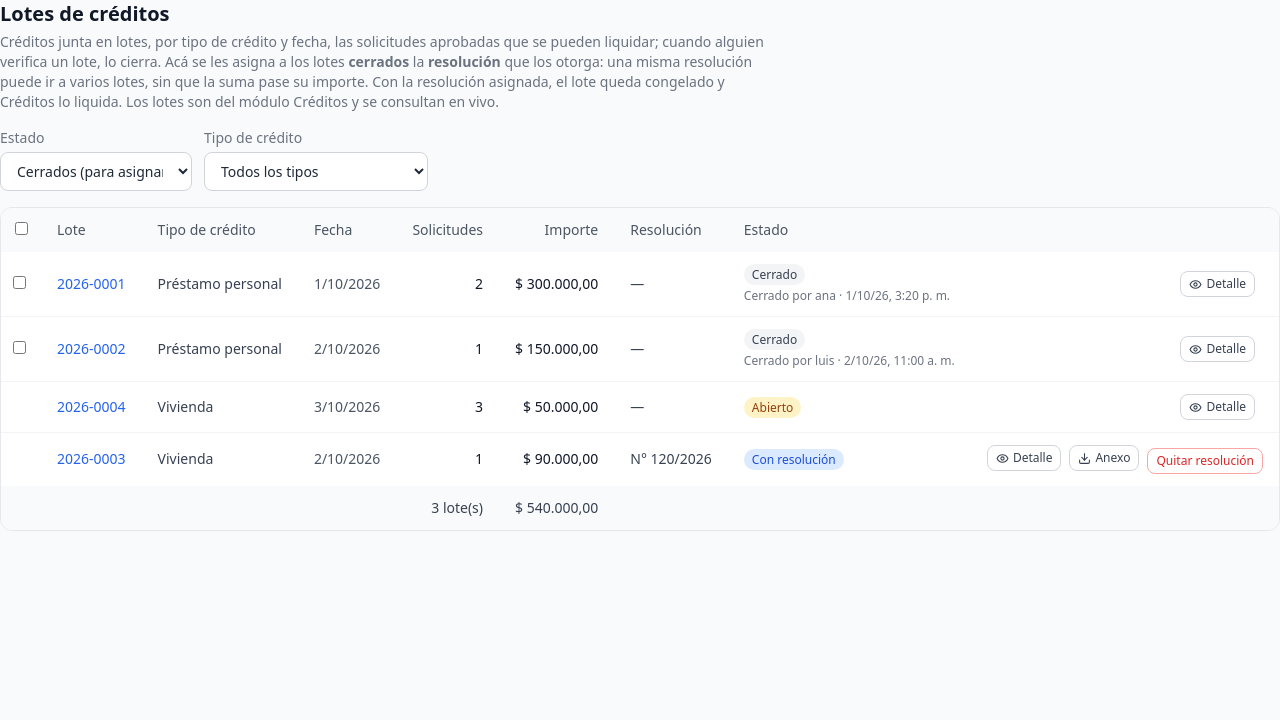
Lotes de créditos (Despacho) › avisa si Créditos no devuelve el lote
This screenshot has width=1280, height=720.
Click the button with aria-label "Ver detalle de 2026-0001" at (1218, 284), box [1180,271,1255,297]
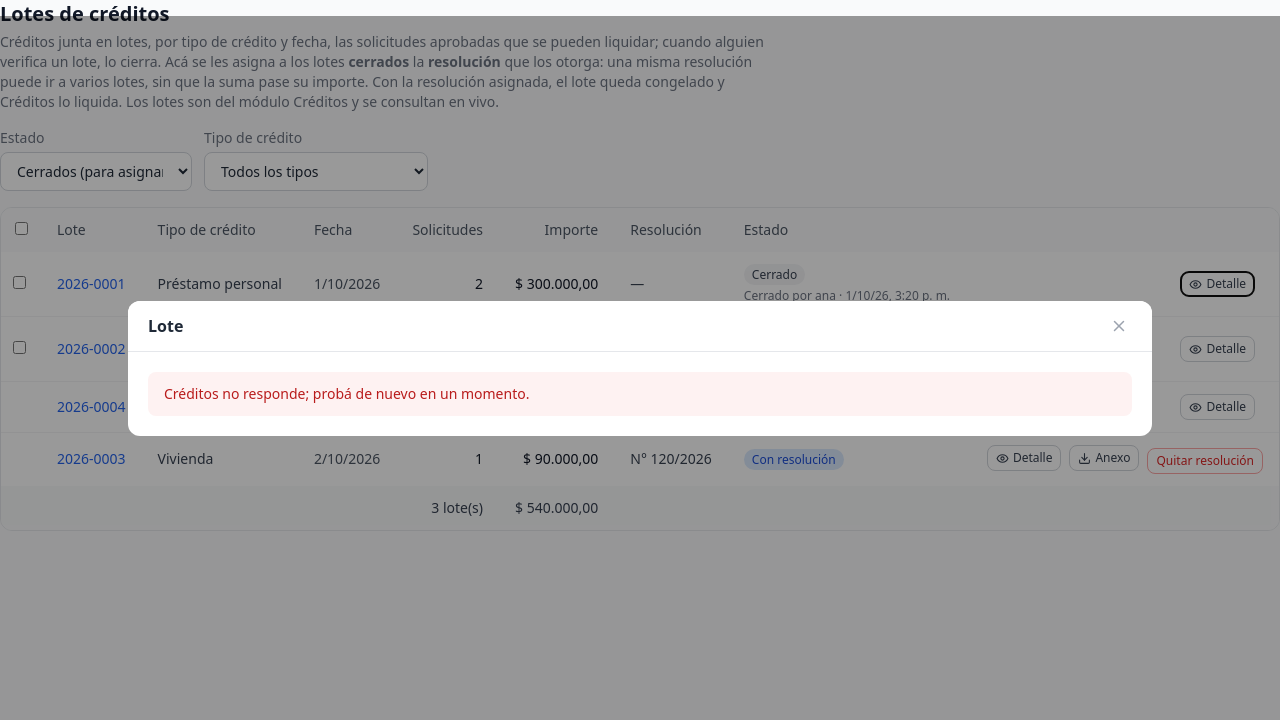
Result: the text "Créditos no responde; probá de nuevo en un momento." is shown at [148,372,1132,416]
